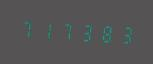eight: (94, 20, 112, 45)
one: (36, 17, 54, 42)
seven: (17, 16, 35, 41), (56, 18, 74, 43)
three: (75, 19, 93, 44), (113, 21, 131, 46)
